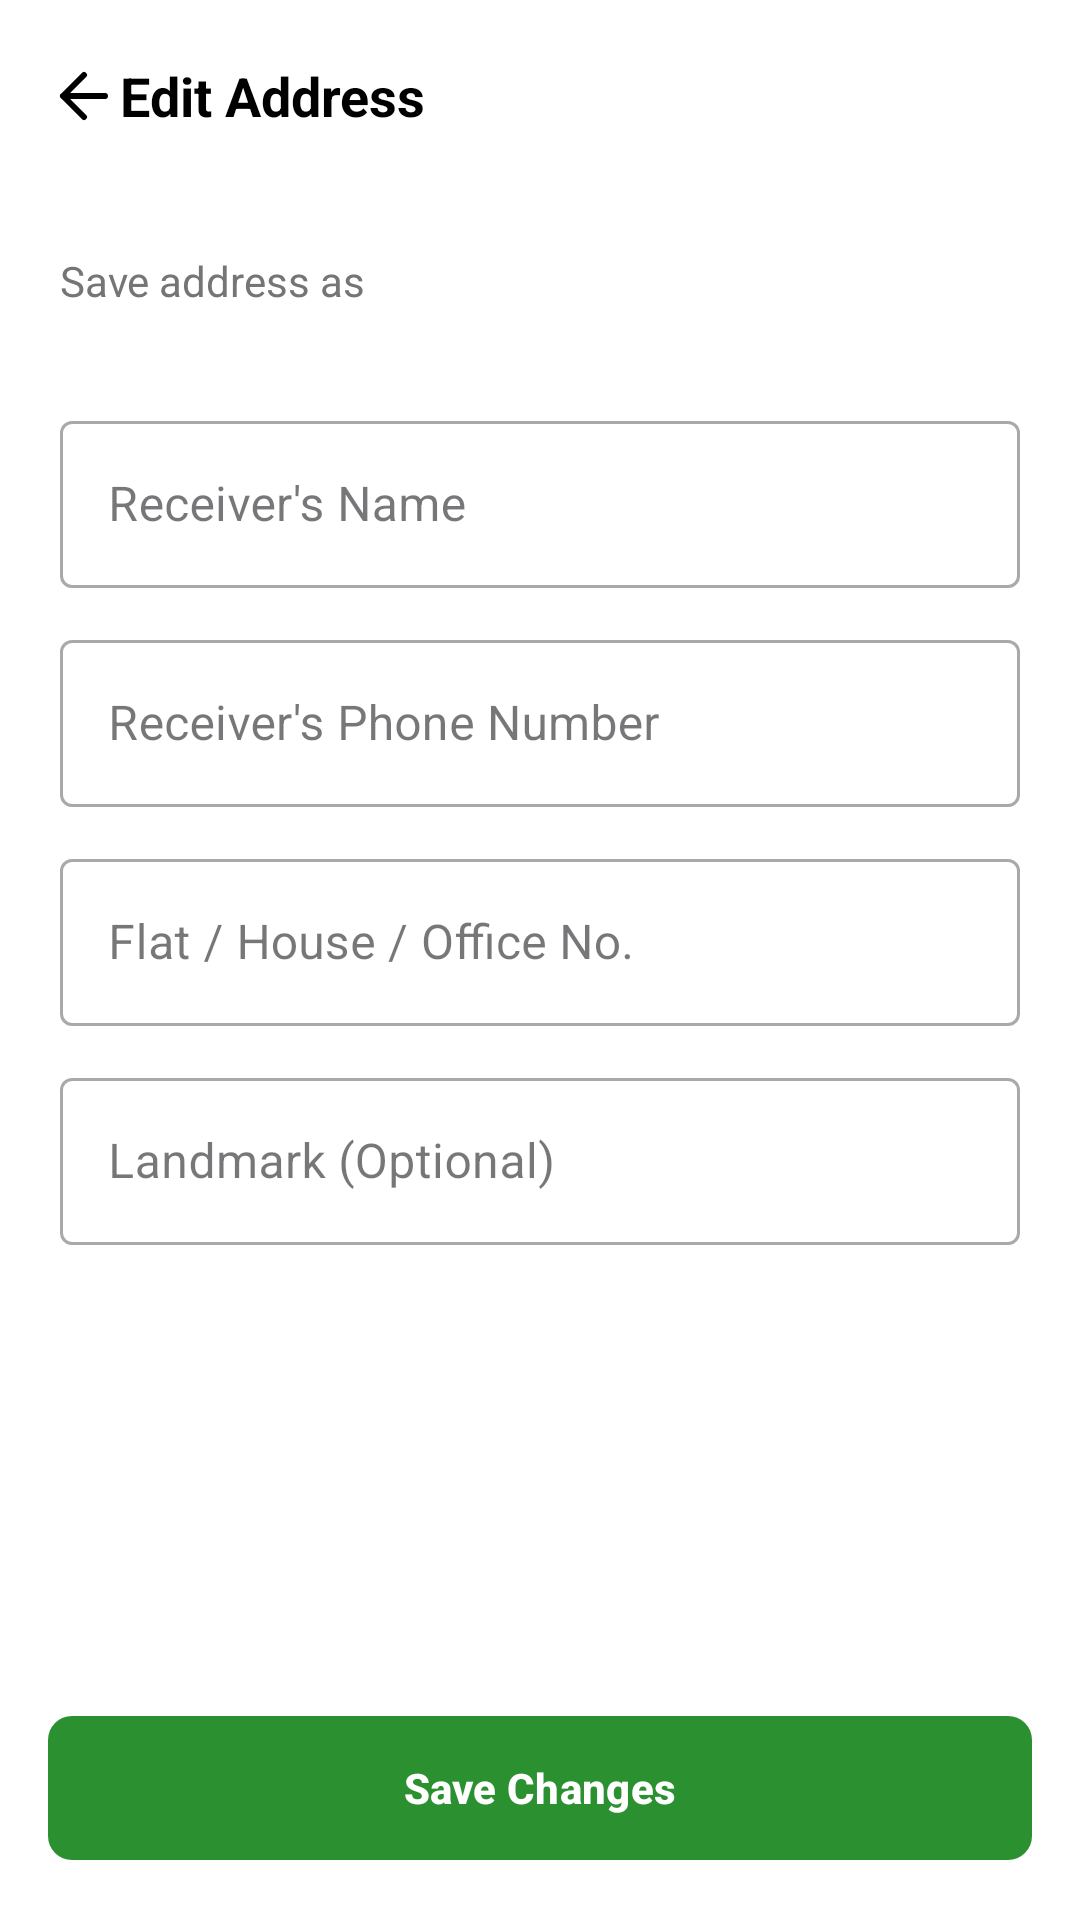

Icons on this 1080w x 1920h Android screen, each with its box as (x1, y1, x2, y2):
back: (60, 72, 108, 120)
